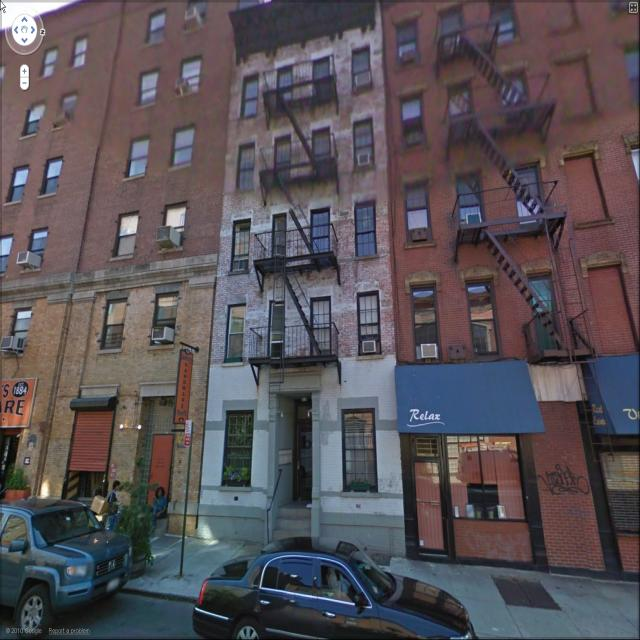b_1: (388, 8, 595, 565), (228, 2, 417, 566), (67, 5, 232, 510), (0, 10, 126, 445)
